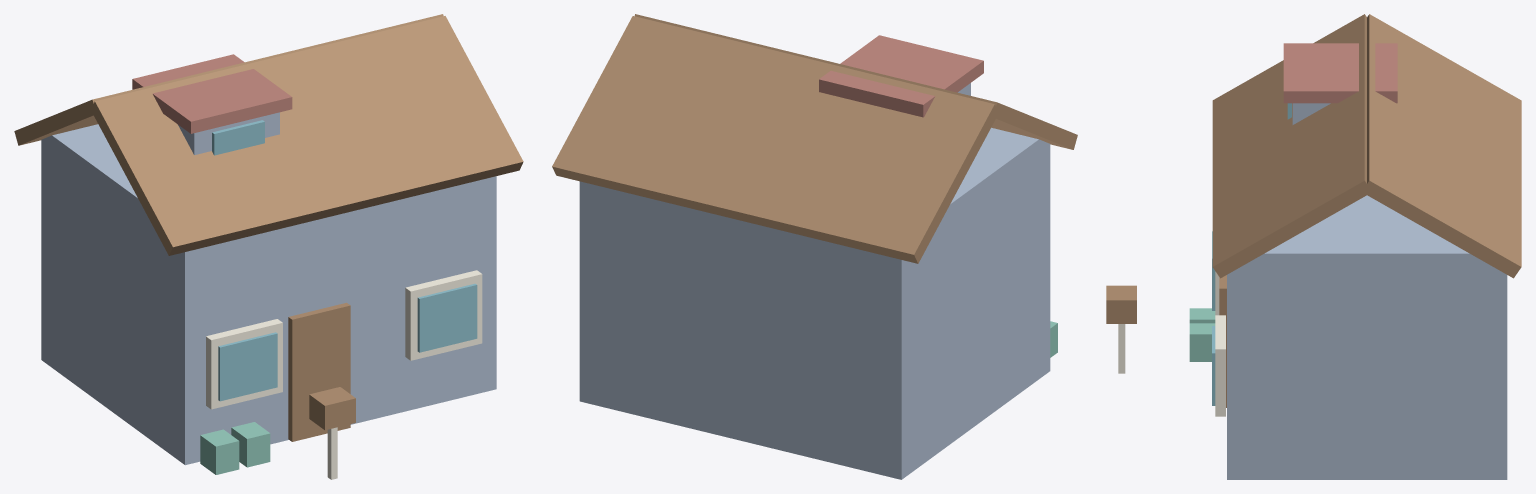
The model's file is home-07.glb.
3 views of the same model, side by side, from view 1: azimuth 30°, elevation 25°; view 2: azimuth 150°, elevation 25°; view 3: azimuth 270°, elevation 25° (orthographic). The views are drawn at different scales.
Visible parts, largest first — view 1: dormer.001, front door.007, dormer window.001, dormer cap.001, letterbox post.005, flower planter.005; view 2: dormer.001, front door.007, dormer cap.001; view 3: dormer.001, front door.007, dormer cap.001, letterbox post.005, flower planter.005, dormer window.001.
Boxes of the visible parts, box(x1,y1,x2,y2) form: dormer.001: box(41, 112, 496, 465); front door.007: box(14, 14, 523, 441); dormer window.001: box(212, 120, 477, 401); dormer cap.001: box(132, 54, 292, 133); letterbox post.005: box(206, 270, 482, 479); flower planter.005: box(200, 422, 270, 474); dormer.001: box(579, 83, 1050, 479); front door.007: box(552, 14, 1077, 263); dormer cap.001: box(819, 35, 983, 117); dormer.001: box(1227, 103, 1507, 479); front door.007: box(1106, 14, 1521, 407); dormer cap.001: box(1283, 43, 1397, 103); letterbox post.005: box(1118, 271, 1225, 416); flower planter.005: box(1189, 308, 1215, 361); dormer window.001: box(1212, 103, 1291, 405).
Size of the model in its own units: 4.5 by 3.89 by 4.74.
